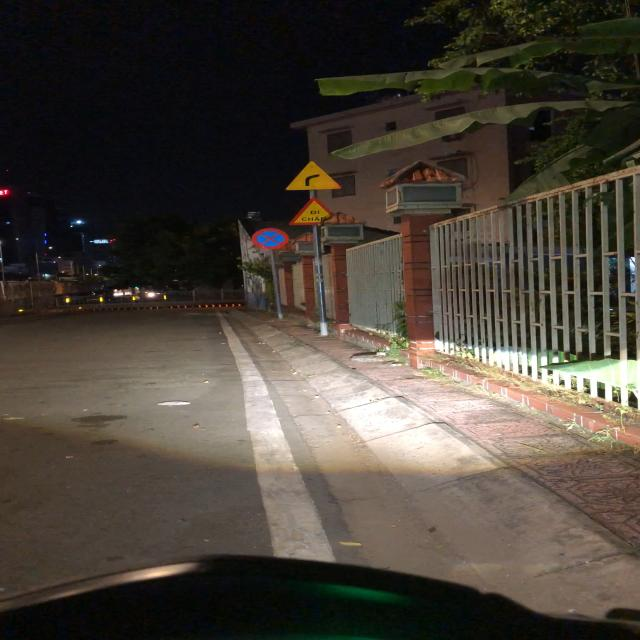Bien bao cam dung xe va do xe: (250, 226, 292, 251)
Bien bao cho ngoat nguy hiem: (282, 159, 345, 191)
Bien bao di cham: (284, 195, 341, 226)
